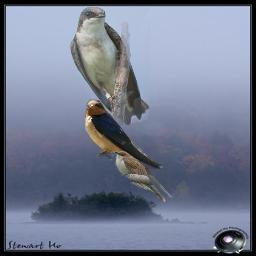Cuckoo: (113, 151, 166, 202)
Swallow: (70, 6, 150, 127), (84, 99, 172, 198)
